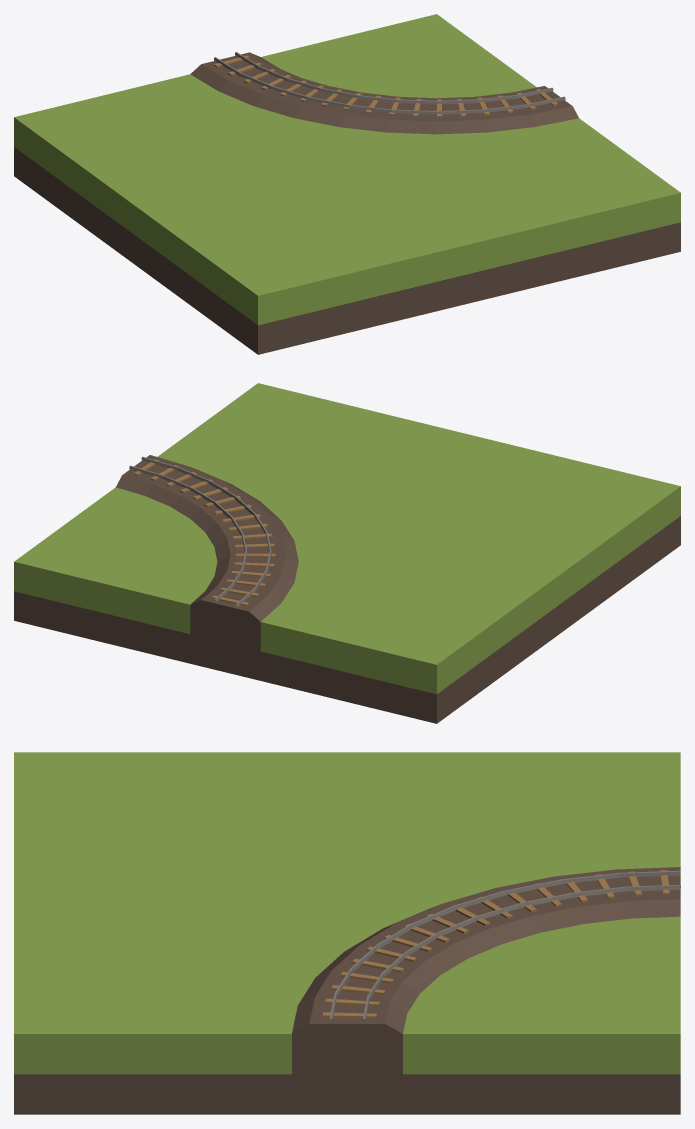
File: rail-tile-curve.fbx
3 views of the same model, one above another, from view 1: azimuth 30°, elevation 25°; view 2: azimuth 150°, elevation 25°; view 3: azimuth 270°, elevation 25° (orthographic). The views are drawn at different scales.
Parts seen in each view (by area): view 1: rail-tile_curve; view 2: rail-tile_curve; view 3: rail-tile_curve.
Part boxes in pixels (x1,y1,x2,y2): rail-tile_curve: (14, 14, 680, 354); rail-tile_curve: (14, 383, 680, 723); rail-tile_curve: (14, 752, 680, 1114).
Size of the model in its own units: 3000 by 475 by 3001.
